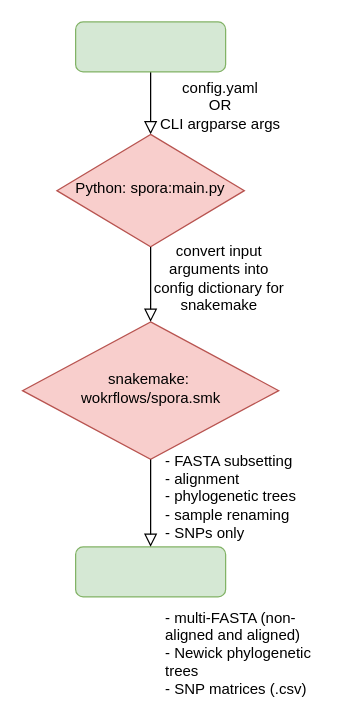
The diagram is 346 pixels wide and 719 high, and some of its shapes have lost their labels. Here are the shapes that lost their labels. From the top down, the centre of each, then its label:
point 150,46: Inputs
point 150,571: Outputs
